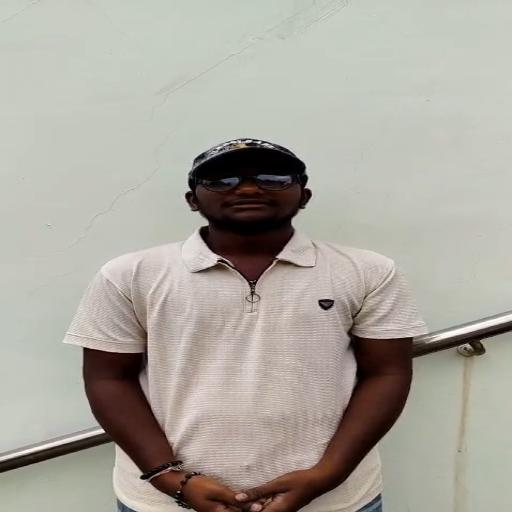employee-detectio-system: (61, 131, 444, 420)
